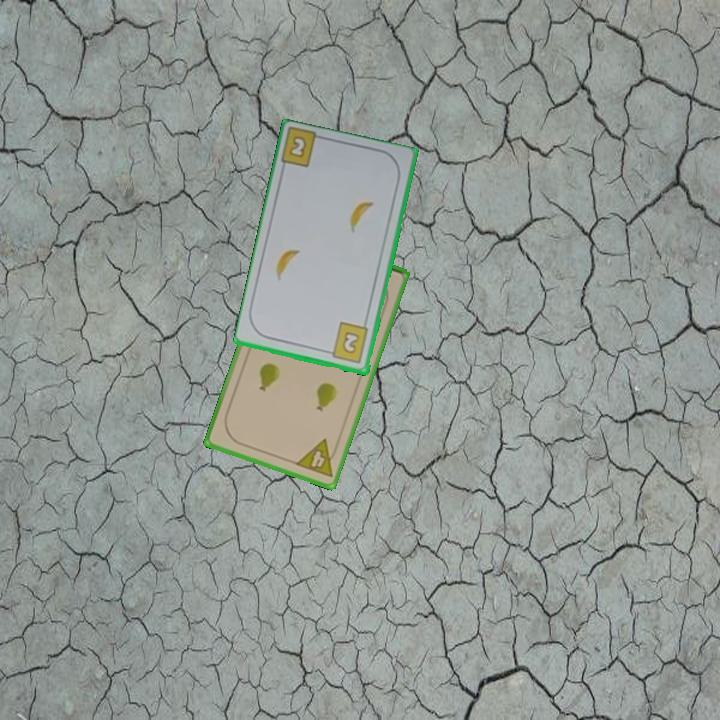2b: (323, 319, 371, 367), (286, 132, 310, 161)
4p: (292, 435, 342, 481)
